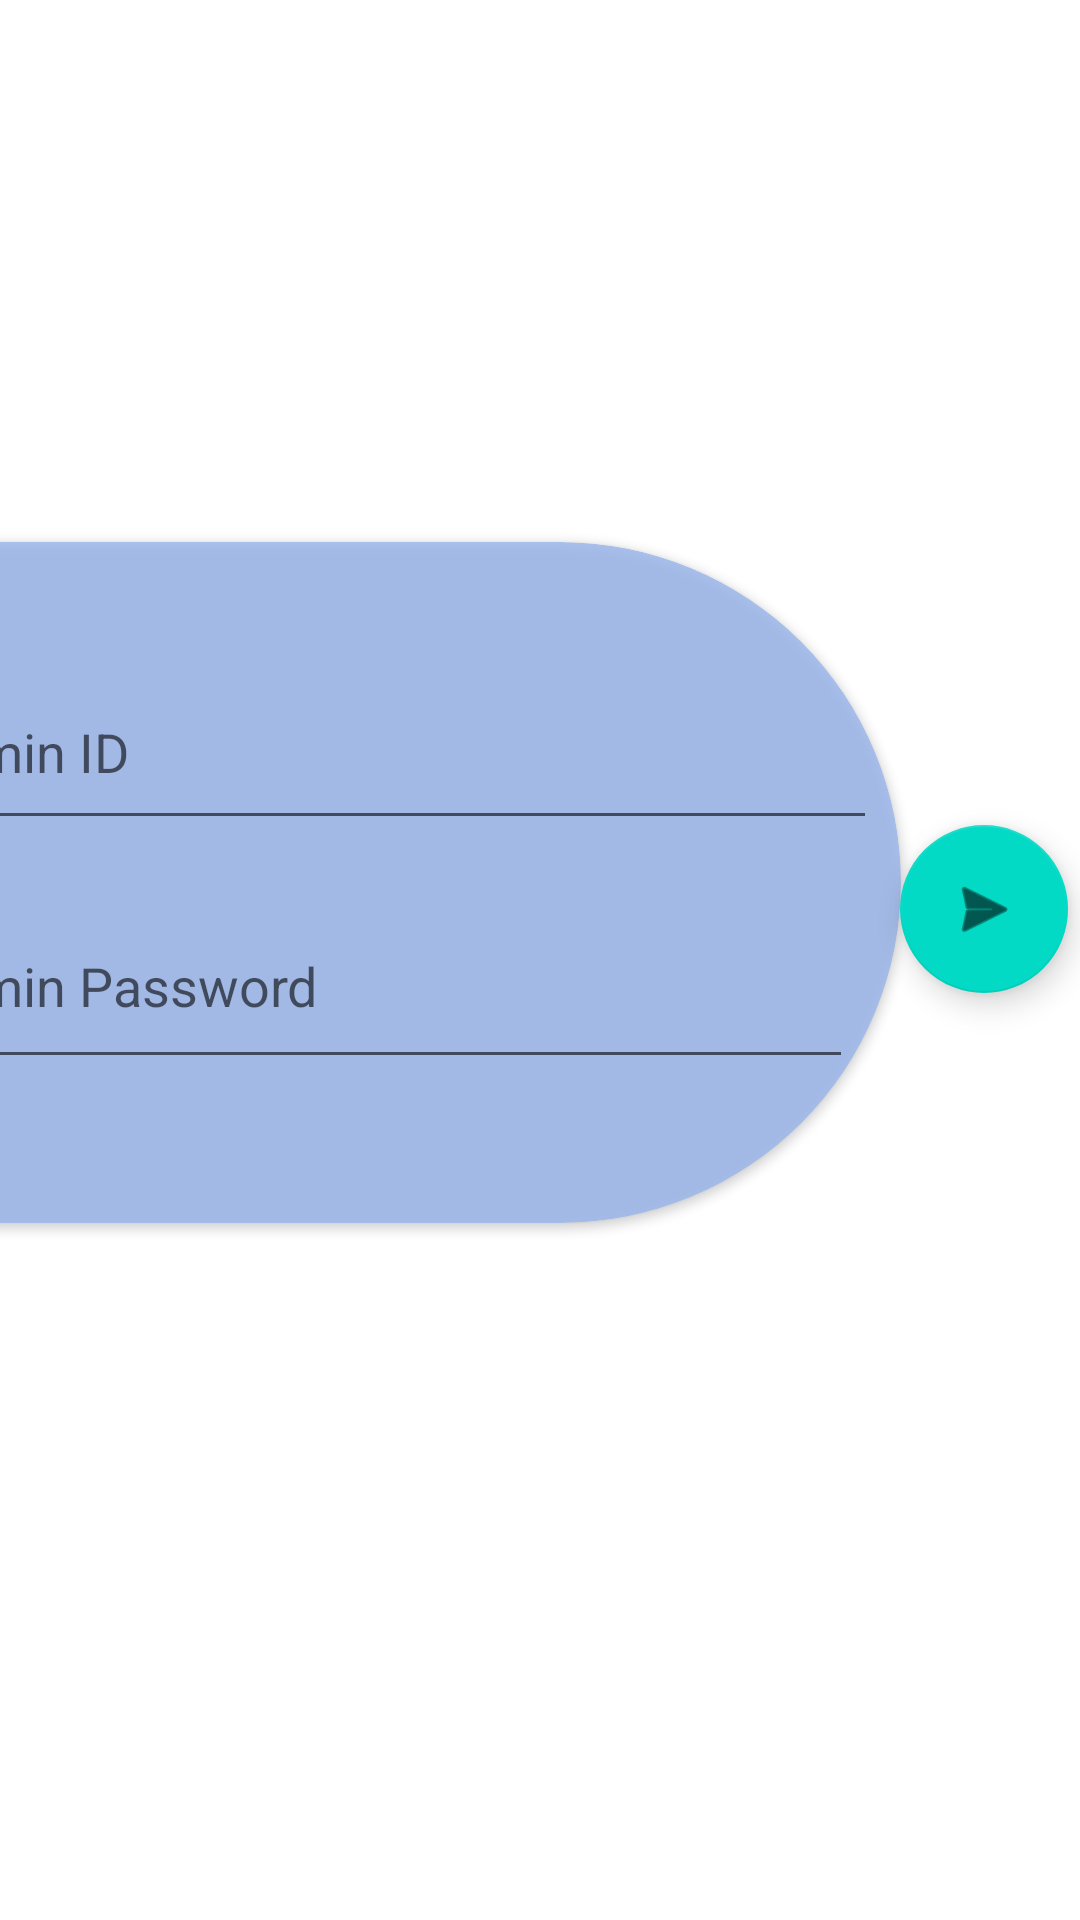

Icon click points for this 1080*1920 phone screenshot, format (x=x, y=y):
send: (x=984, y=909)
